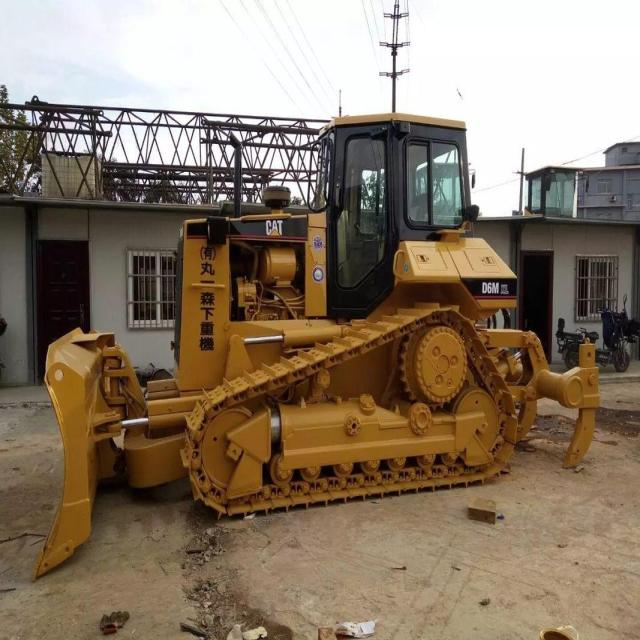buldozerpayloadergrader: (18, 98, 616, 592)
